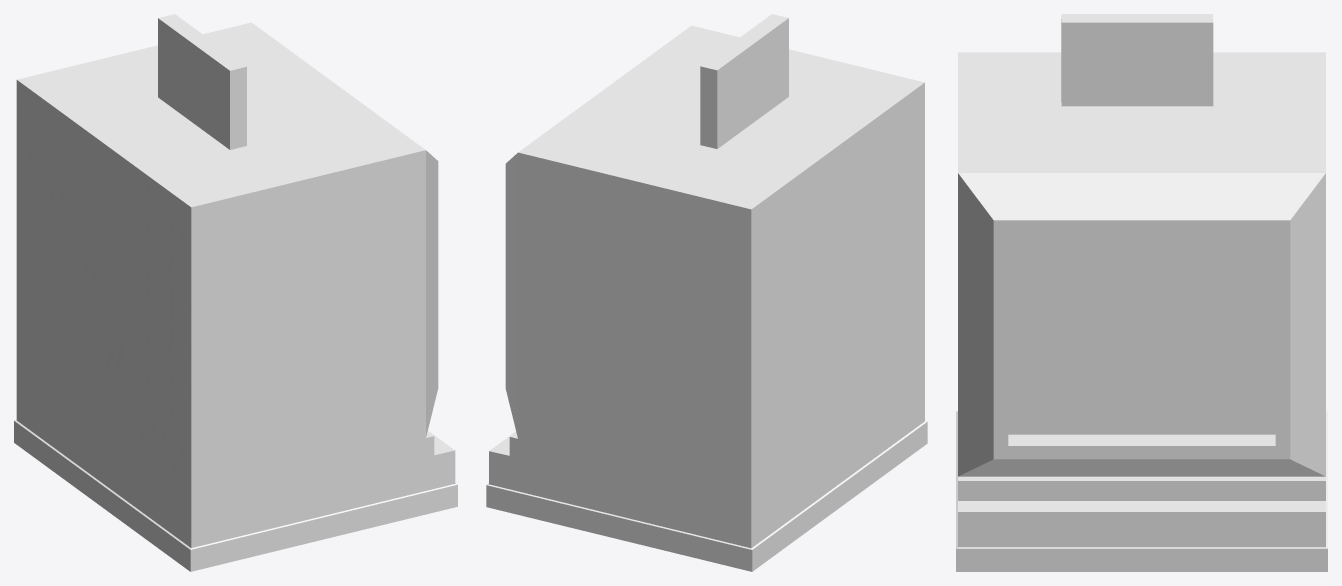
The model's file is ClockOutMachine.fbx.
3 renders of one model, left to right at view 1: azimuth 30°, elevation 25°; view 2: azimuth 150°, elevation 25°; view 3: azimuth 270°, elevation 25°, orthographic. The views are drawn at different scales.
Parts seen in each view (by area): view 1: Cube; view 2: Cube; view 3: Cube.
Boxes of the visible parts, x1,y1,x2,y2 form: Cube: (14,14,457,571); Cube: (486,14,927,571); Cube: (956,14,1327,571).
Size of the model in its own units: 177 by 280 by 202.
